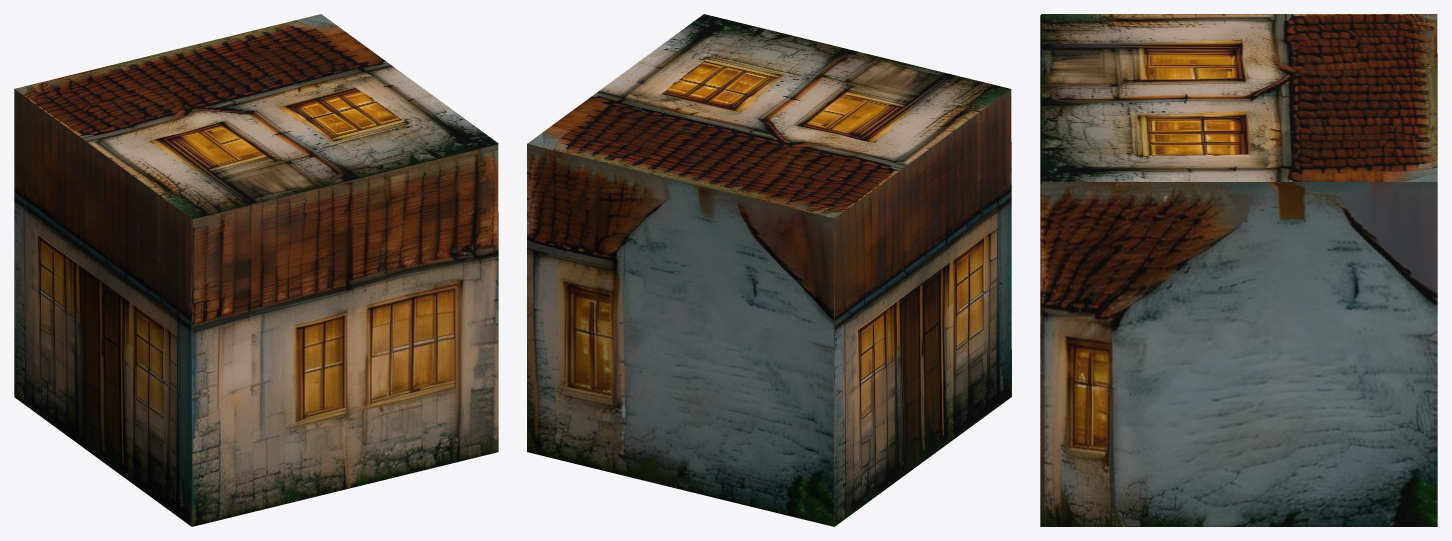
Rendered from build_cottage_a.glb.
3 views of the same model, side by side, from view 1: azimuth 30°, elevation 25°; view 2: azimuth 150°, elevation 25°; view 3: azimuth 270°, elevation 25° (orthographic). The views are drawn at different scales.
Parts seen in each view (by area): view 1: 7e099af9-0df7-4029-8c02-948f8762fabe_texturing.obj; view 2: 7e099af9-0df7-4029-8c02-948f8762fabe_texturing.obj; view 3: 7e099af9-0df7-4029-8c02-948f8762fabe_texturing.obj.
Part boxes in pixels (bbox=[...]): 7e099af9-0df7-4029-8c02-948f8762fabe_texturing.obj: bbox=[14, 14, 498, 526]; 7e099af9-0df7-4029-8c02-948f8762fabe_texturing.obj: bbox=[527, 14, 1011, 526]; 7e099af9-0df7-4029-8c02-948f8762fabe_texturing.obj: bbox=[1040, 14, 1437, 526].
Size of the model in its own units: 1.99 by 1.91 by 1.99.
1 material, 1 textured.
